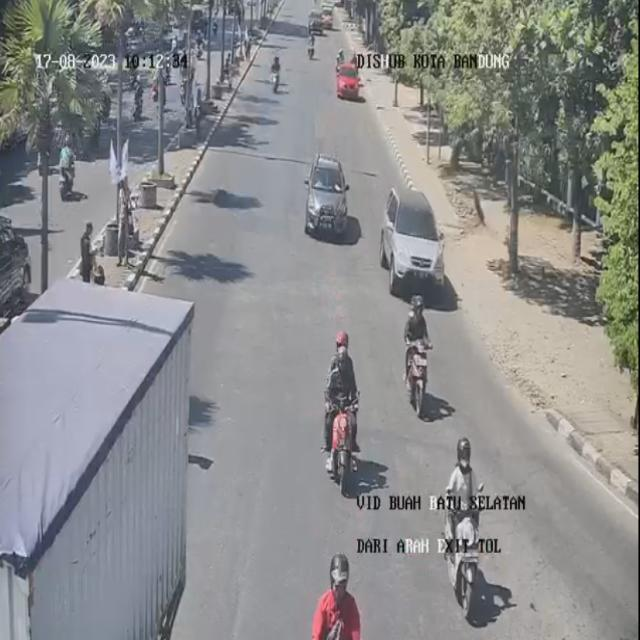cars: (380, 178, 447, 293), (304, 144, 347, 232), (335, 56, 363, 100), (304, 7, 332, 41), (319, 5, 336, 36)
motorcycle: (436, 433, 494, 613), (320, 321, 371, 492), (400, 294, 433, 421), (266, 51, 287, 94), (304, 35, 321, 65)
truck: (0, 281, 199, 640)
